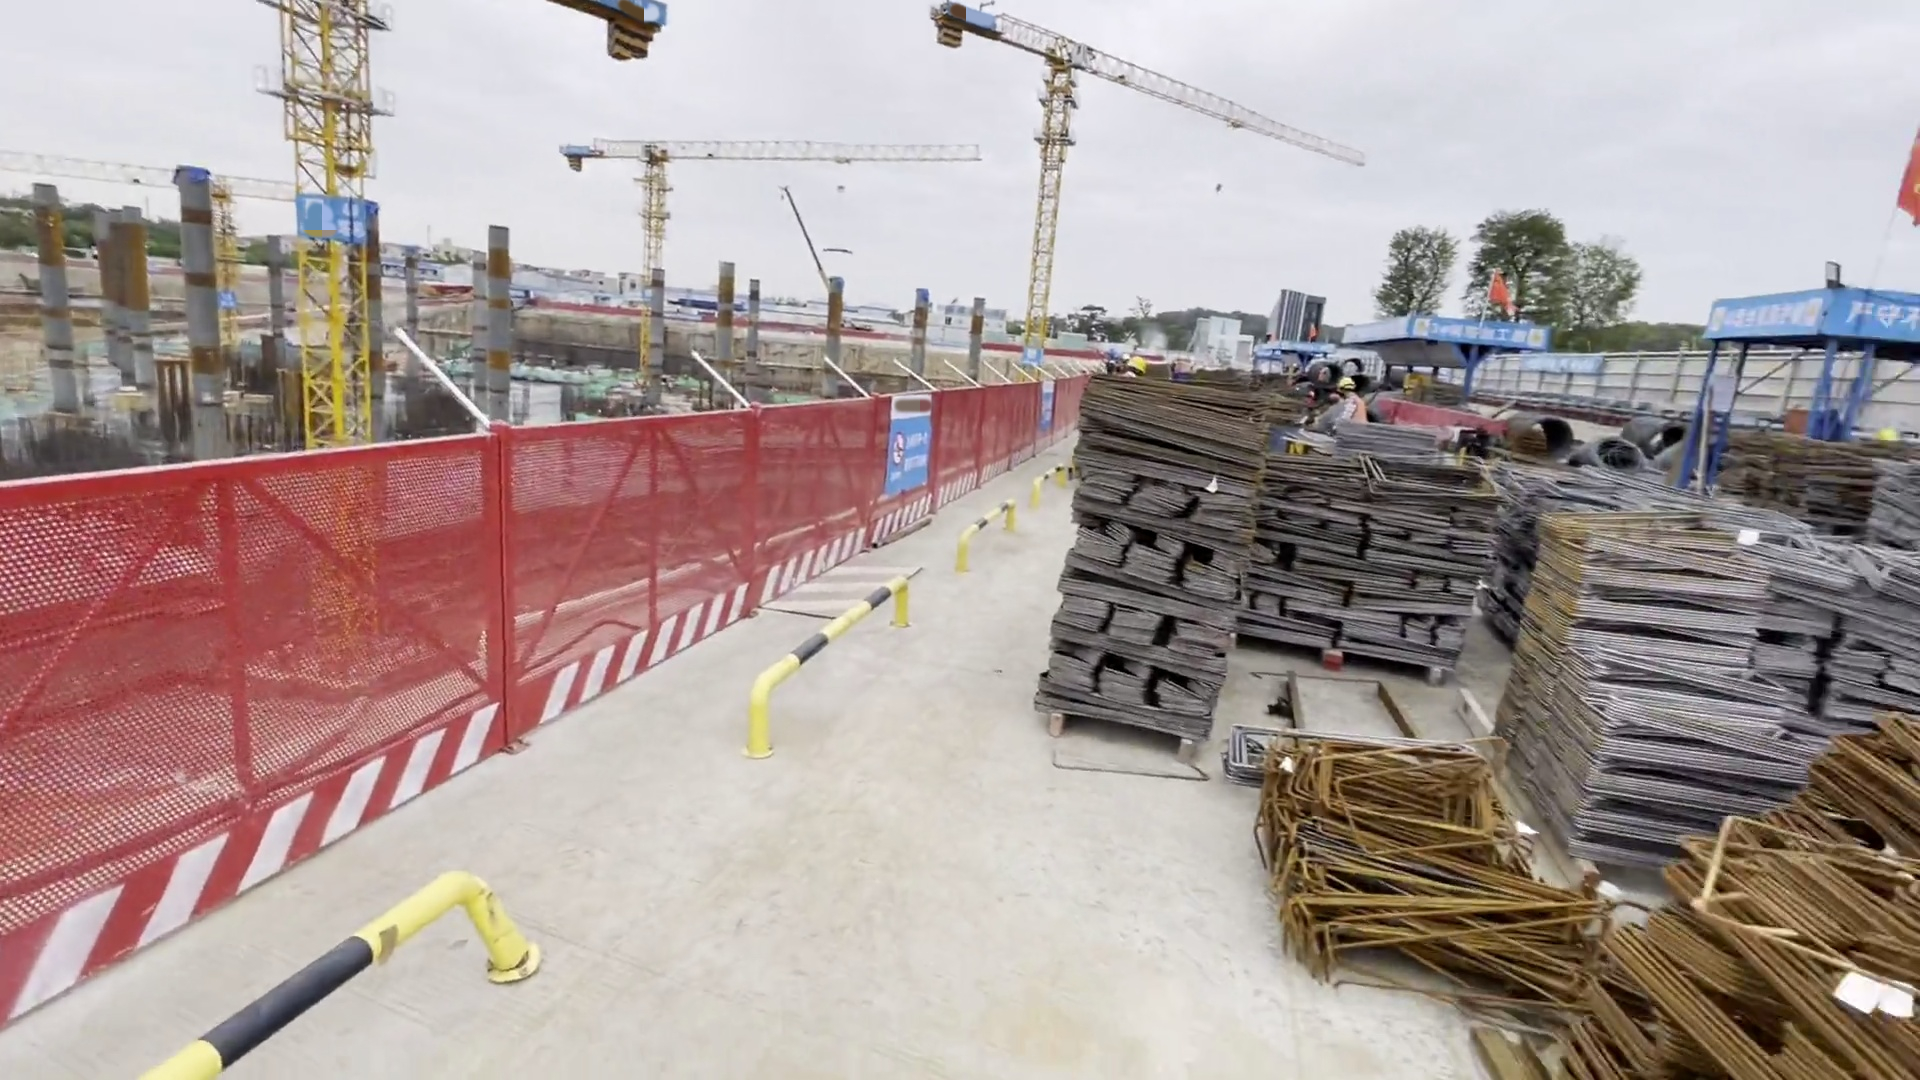fence: (1, 397, 867, 1029), (919, 373, 1107, 519)
helmet: (1126, 357, 1146, 374), (1337, 376, 1355, 392)
person: (1331, 378, 1367, 428)
slogan: (882, 418, 938, 485)
vest: (1350, 395, 1366, 423)
